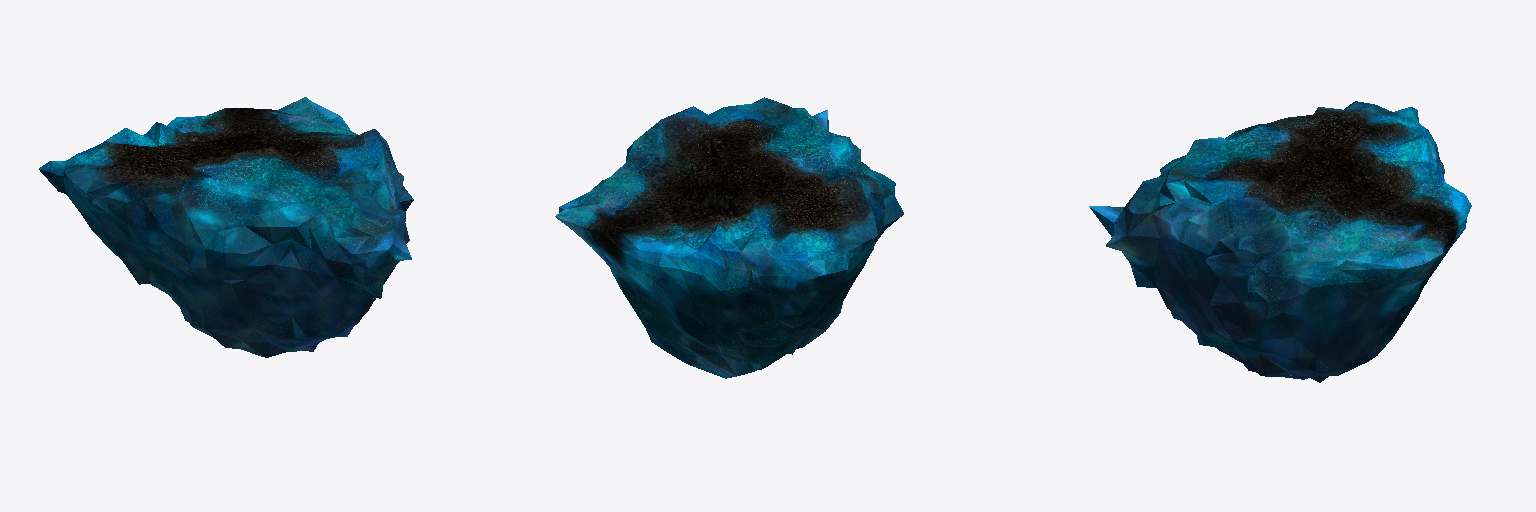
The picture shows the model from 3 angles: view 1: azimuth 30°, elevation 25°; view 2: azimuth 150°, elevation 25°; view 3: azimuth 270°, elevation 25°; orthographic projection.
Visible parts, largest first — view 1: Asteroid_1_Asteroid1; view 2: Asteroid_1_Asteroid1; view 3: Asteroid_1_Asteroid1.
Part boxes in pixels (bbox=[...]): Asteroid_1_Asteroid1: bbox=[39, 97, 413, 357]; Asteroid_1_Asteroid1: bbox=[555, 97, 903, 378]; Asteroid_1_Asteroid1: bbox=[1089, 101, 1471, 382].
Size of the model in its own units: 41.79 by 28.49 by 46.52.
1 materials, 1 textured.